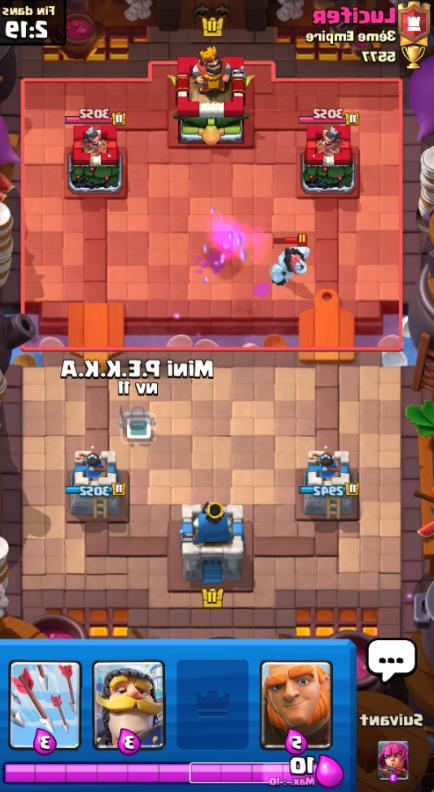mini_PEKKA: (117, 407, 155, 440)
